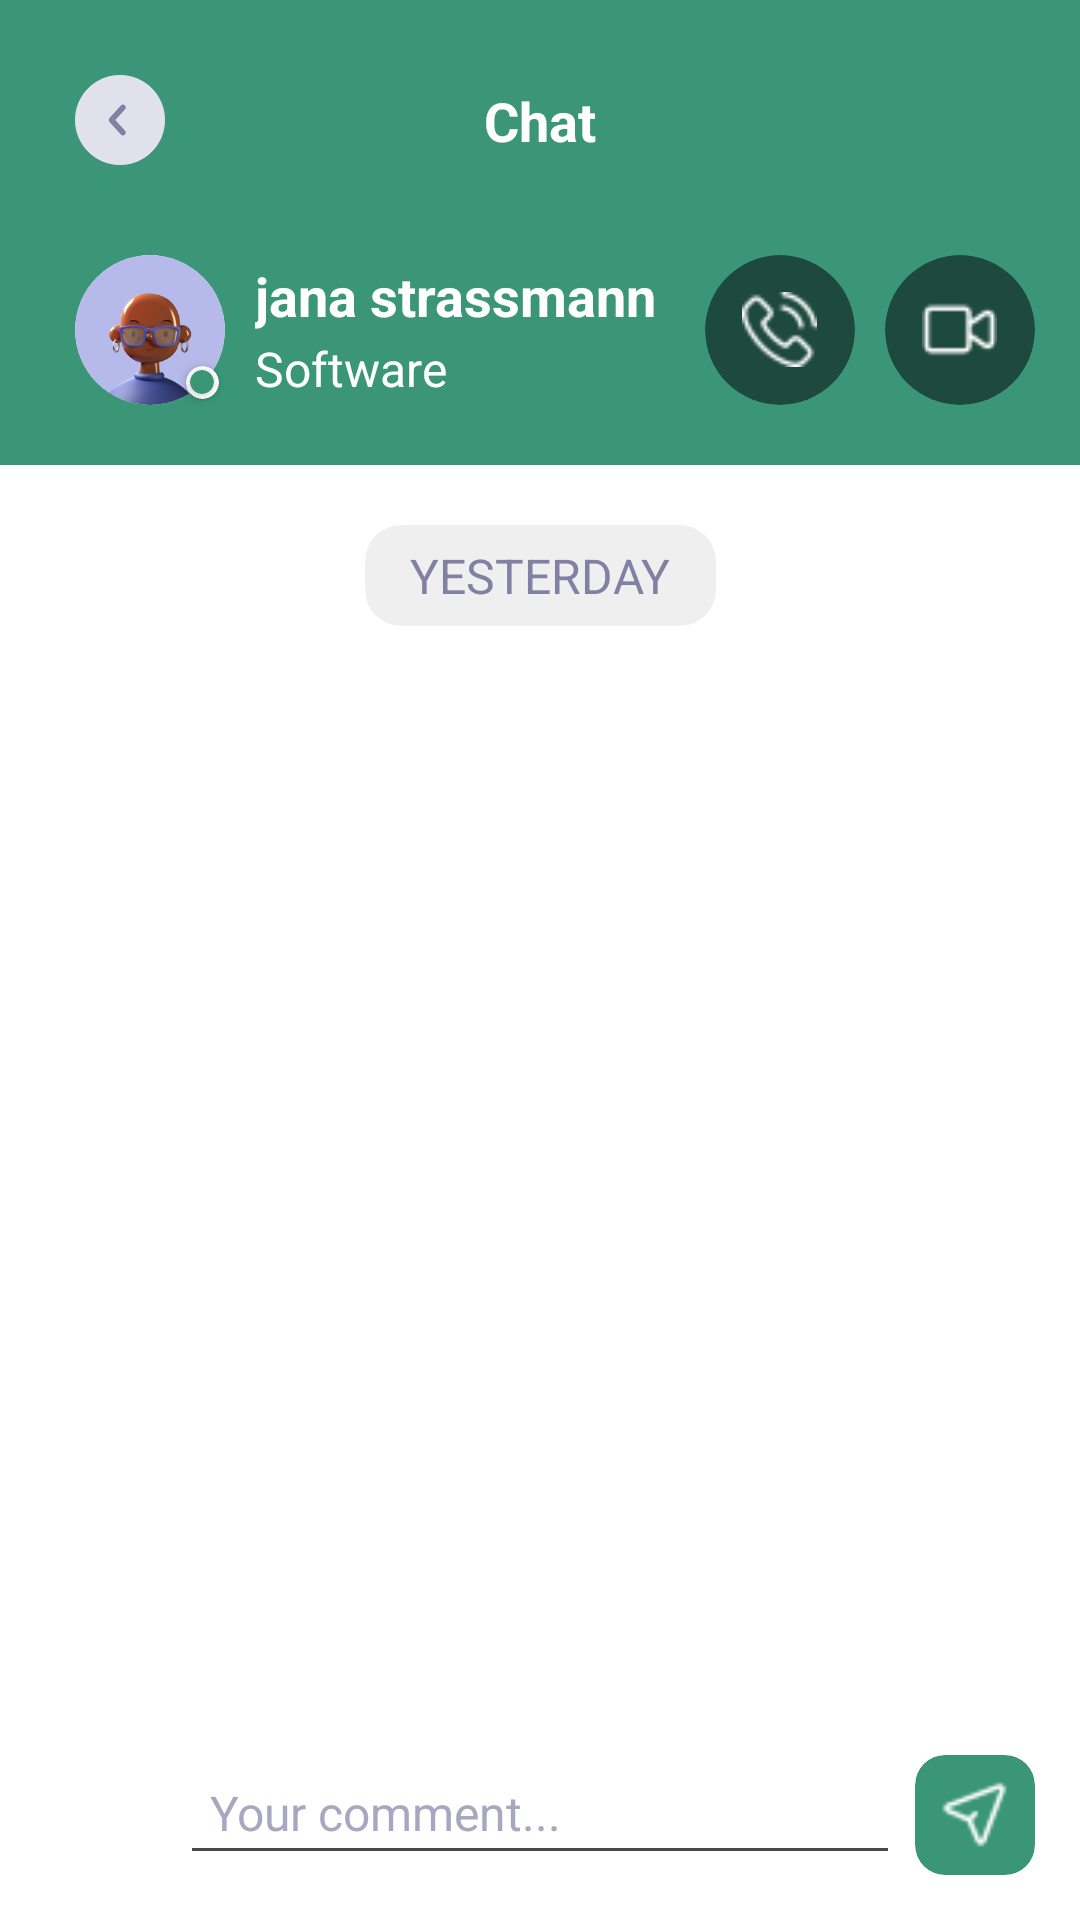

Icon click points for this 1080 × 1920 phone screenshot, format point (x, y):
back: point (120, 120)
phone: point (779, 329)
send: point (974, 1814)
video: point (959, 329)
